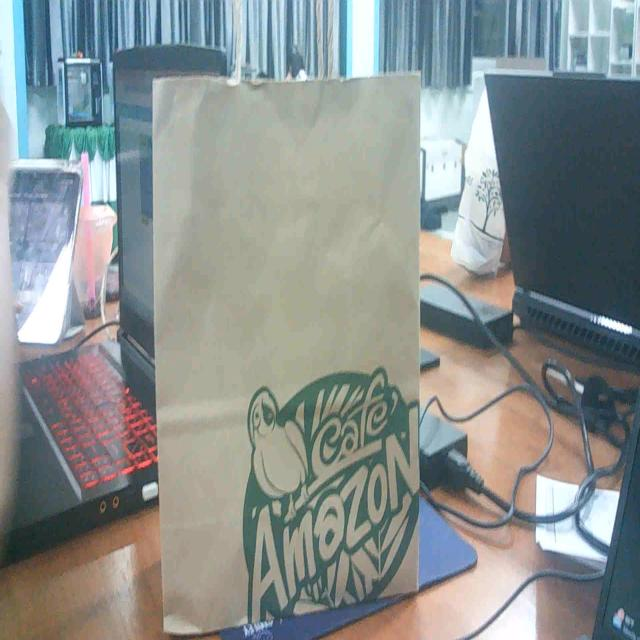bag: (137, 38, 431, 634)
